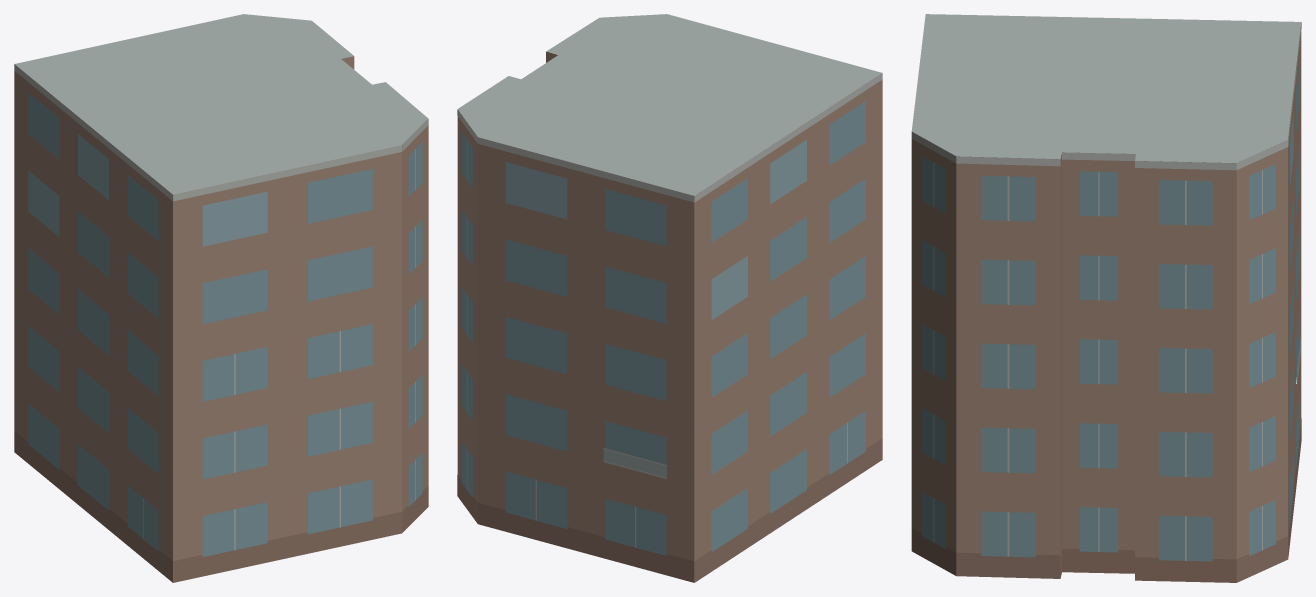
Rendered from survey-upis-32670447.glb.
3 views of the same model, side by side, from view 1: azimuth 30°, elevation 25°; view 2: azimuth 150°, elevation 25°; view 3: azimuth 270°, elevation 25° (orthographic). The views are drawn at different scales.
Parts seen in each view (by area): view 1: survey-upis-32670447.tmp; view 2: survey-upis-32670447.tmp; view 3: survey-upis-32670447.tmp.
Part boxes in pixels (x1=…): survey-upis-32670447.tmp: x1=14, y1=14, x2=428, y2=582; survey-upis-32670447.tmp: x1=457, y1=14, x2=882, y2=582; survey-upis-32670447.tmp: x1=911, y1=14, x2=1301, y2=582.
Size of the model in its own units: 10.91 by 14.3 by 12.04.
